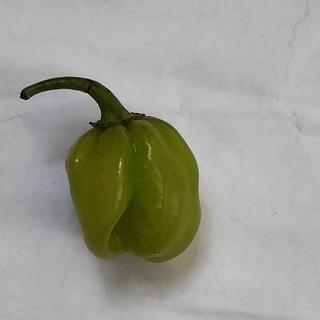Grade-B: (56, 111, 204, 267)
